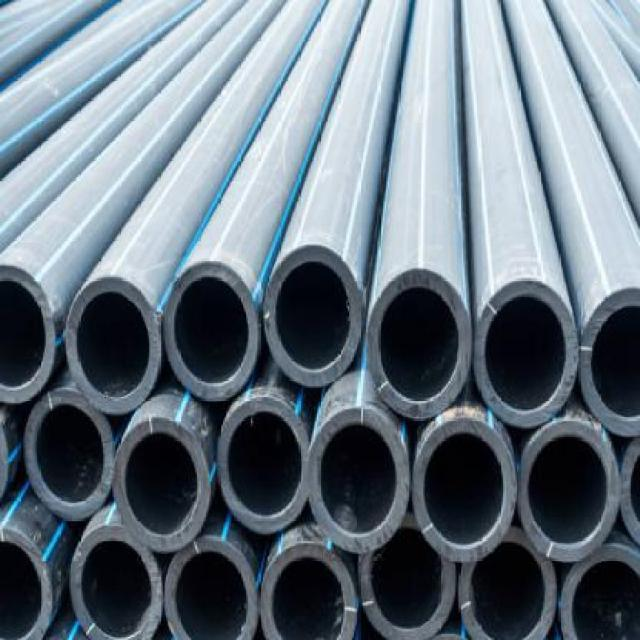pipe: (413, 404, 518, 563), (367, 269, 473, 421), (369, 270, 473, 420), (310, 401, 410, 554), (476, 281, 579, 428), (520, 419, 621, 562), (113, 416, 216, 554), (264, 246, 364, 388), (164, 262, 261, 402), (65, 277, 162, 416), (218, 393, 309, 534), (24, 387, 114, 522), (360, 522, 457, 640), (460, 528, 557, 640), (70, 533, 162, 640), (164, 537, 258, 640), (261, 543, 358, 640)
